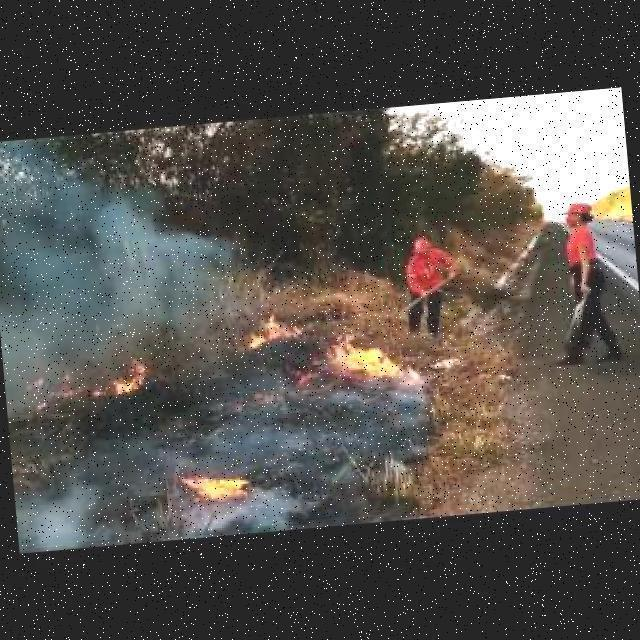Fire: (331, 329, 397, 378), (177, 469, 247, 501), (248, 318, 286, 350), (111, 362, 149, 393)
Smoke: (0, 150, 238, 354), (100, 416, 316, 480), (13, 470, 111, 550), (318, 372, 430, 436), (182, 486, 310, 538), (208, 364, 296, 424)
